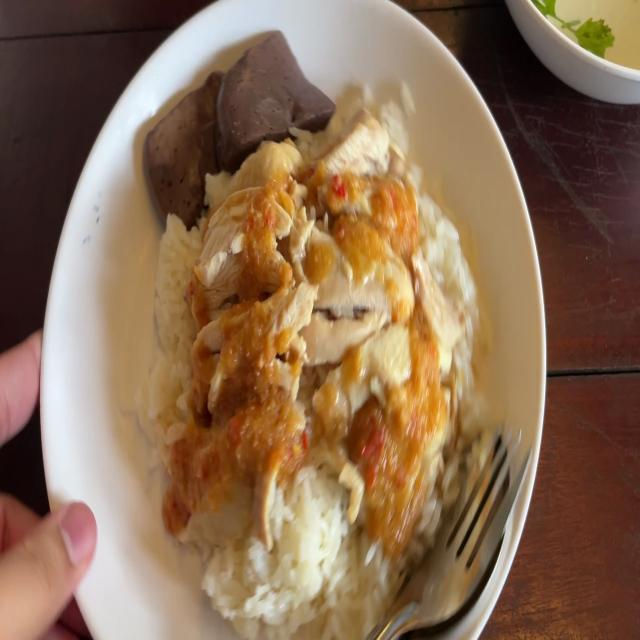boiled_chicken: (200, 157, 436, 504)
boiled_chicken_blood_jelly: (218, 20, 327, 148), (143, 70, 232, 210)
chicken_rice: (141, 26, 480, 628)
